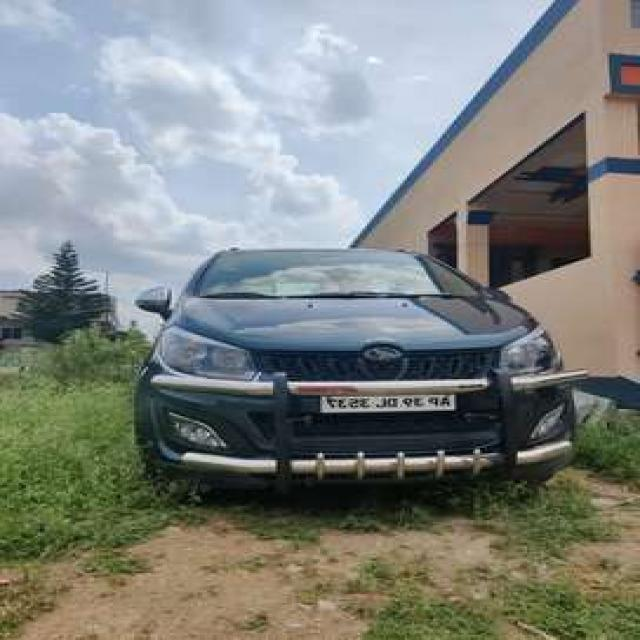license_plate: (320, 394, 458, 412)
